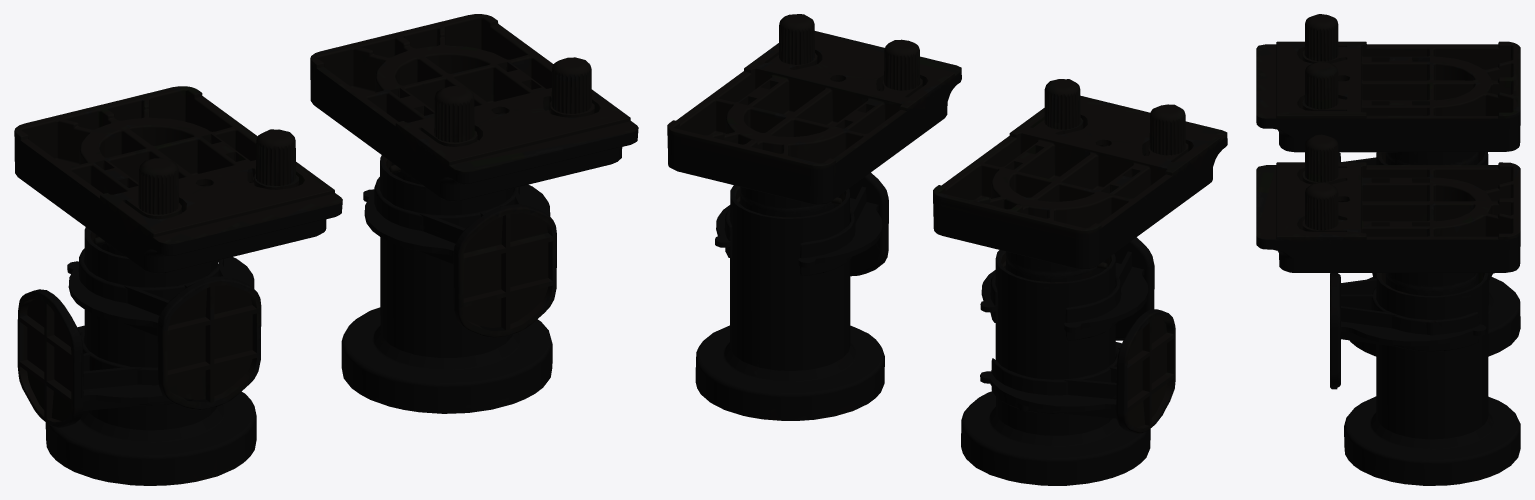
File: METOD pied.glb
3 renders of one model, left to right at view 1: azimuth 30°, elevation 25°; view 2: azimuth 150°, elevation 25°; view 3: azimuth 270°, elevation 25°, orthographic. The views are drawn at different scales.
Visible parts, largest first — view 1: ASY_LPT02_70556067_S01_NV01, ASY_LPT01_70556067_S01_NV01; view 2: ASY_LPT02_70556067_S01_NV01, ASY_LPT01_70556067_S01_NV01; view 3: ASY_LPT01_70556067_S01_NV01, ASY_LPT02_70556067_S01_NV01.
Boxes of the visible parts, bbox=[...] form: ASY_LPT02_70556067_S01_NV01: bbox=[14, 86, 342, 485]; ASY_LPT01_70556067_S01_NV01: bbox=[310, 14, 638, 413]; ASY_LPT02_70556067_S01_NV01: bbox=[933, 79, 1227, 485]; ASY_LPT01_70556067_S01_NV01: bbox=[667, 14, 961, 420]; ASY_LPT01_70556067_S01_NV01: bbox=[1256, 134, 1520, 485]; ASY_LPT02_70556067_S01_NV01: bbox=[1256, 14, 1520, 356].
Size of the model in its own units: 0.138 by 0.0927 by 0.0766.
Materials: 2 (2 with a texture image).
